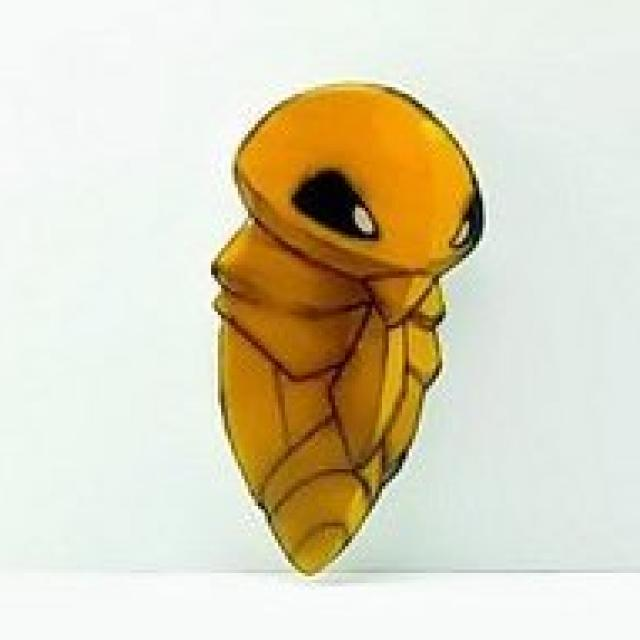Kakuna: (182, 70, 495, 598)
